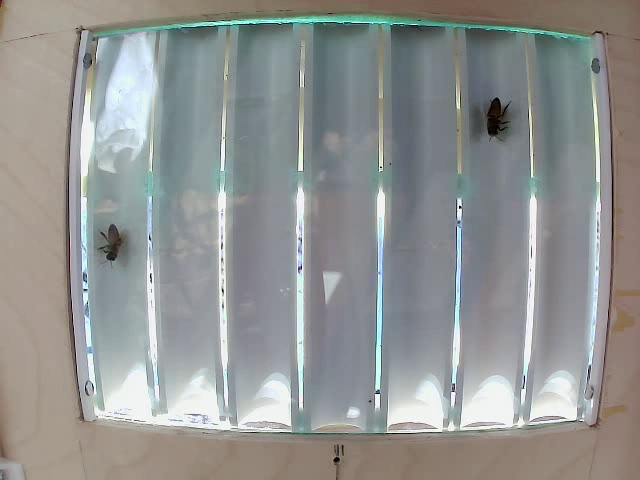bee: (90, 217, 150, 269), (471, 83, 501, 142)
